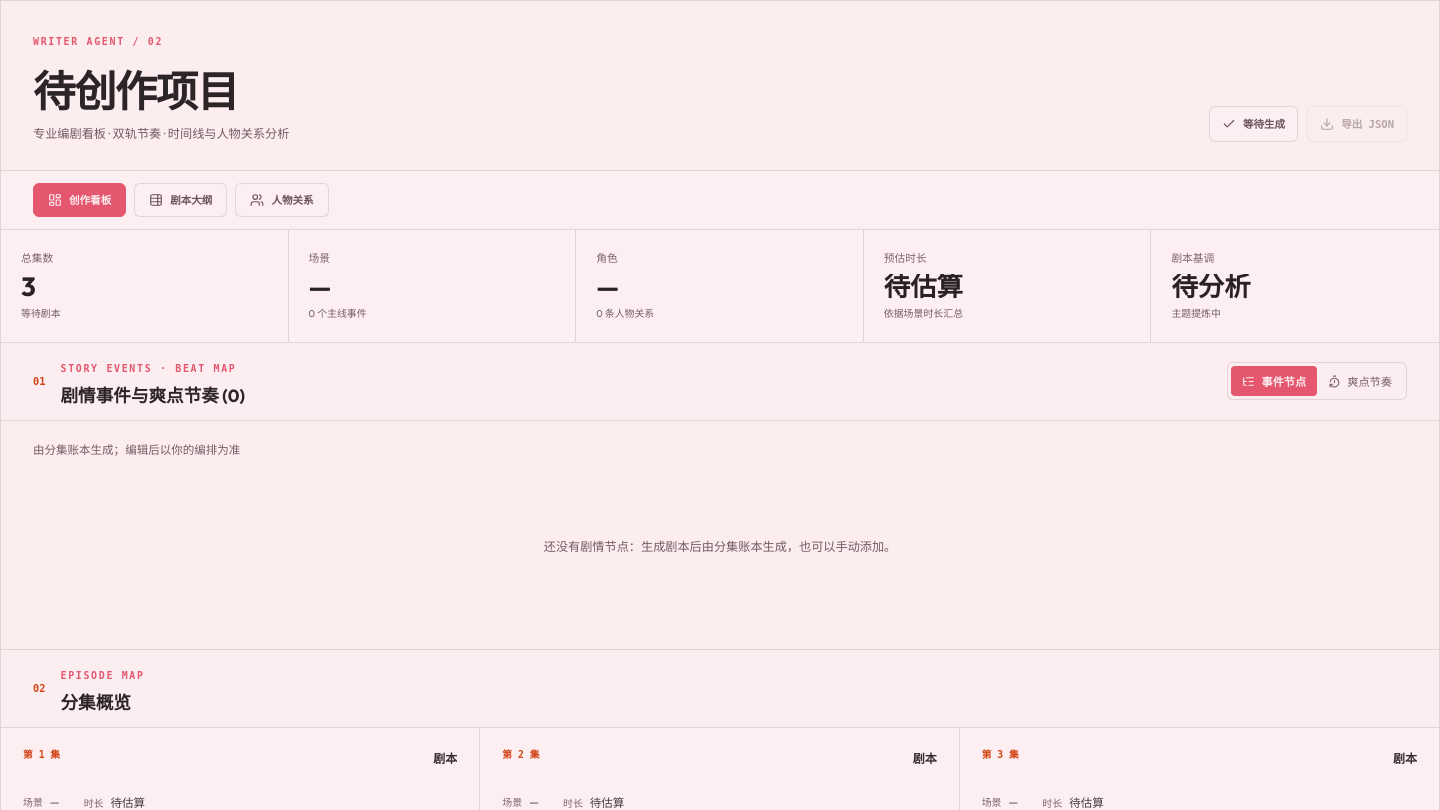
Test case: WriterAgentPage › shows meaningful empty states before the writer asset is generated
The image size is (1440, 810).
Expected: the text "等待生成" is shown, [1209,106,1298,142]
Expected: the text "还没有剧情节点：生成剧本后由分集账本生成，也可以手动添加。" is shown, [544,539,896,554]
Step 1. Click the button "爽点节奏" → (1360, 381), box [1317,366,1403,396]
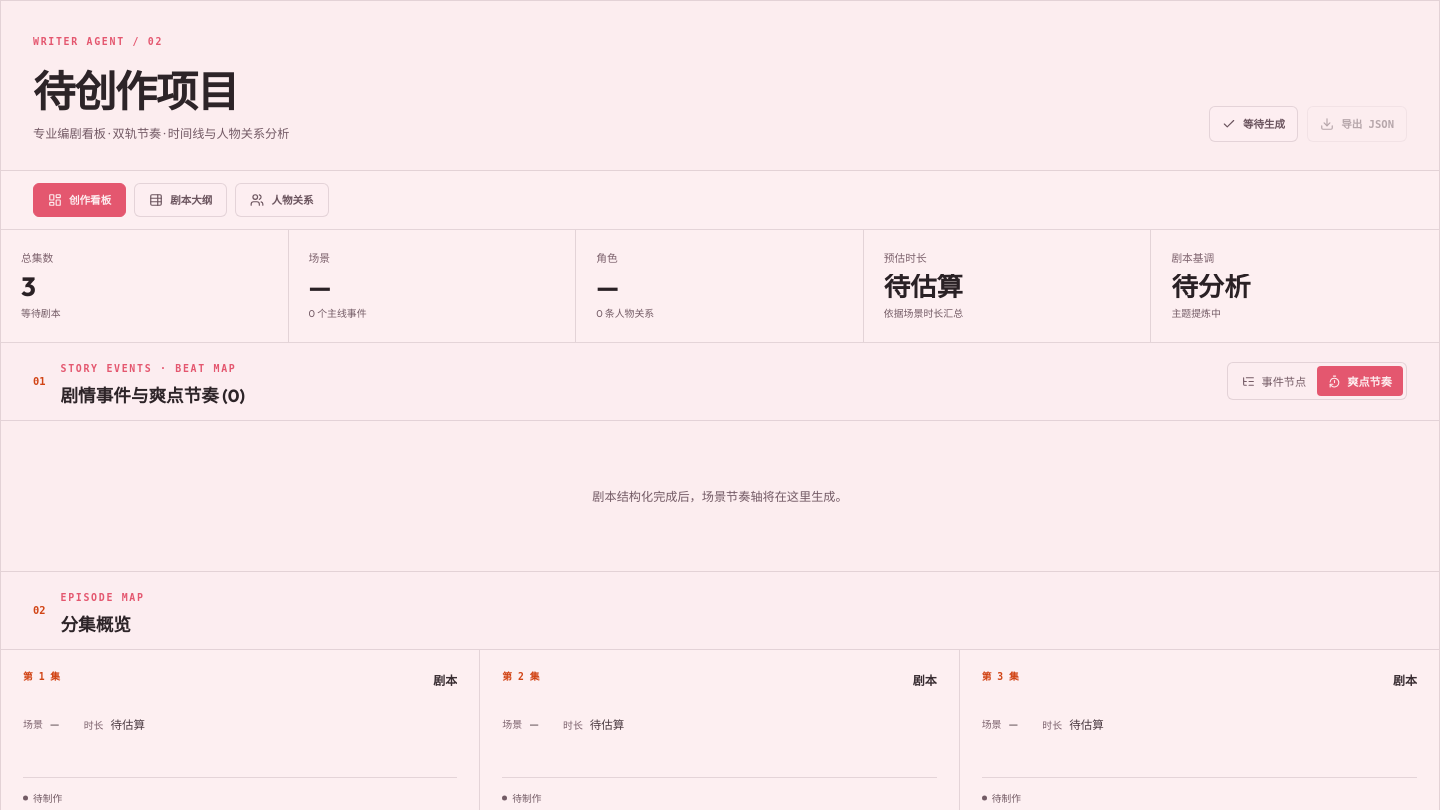
Expected: the text "剧本结构化完成后，场景节奏轴将在这里生成。" is shown, [592,489,848,504]
Step 2. Click the button "人物关系" → (282, 200), box [235,183,329,217]
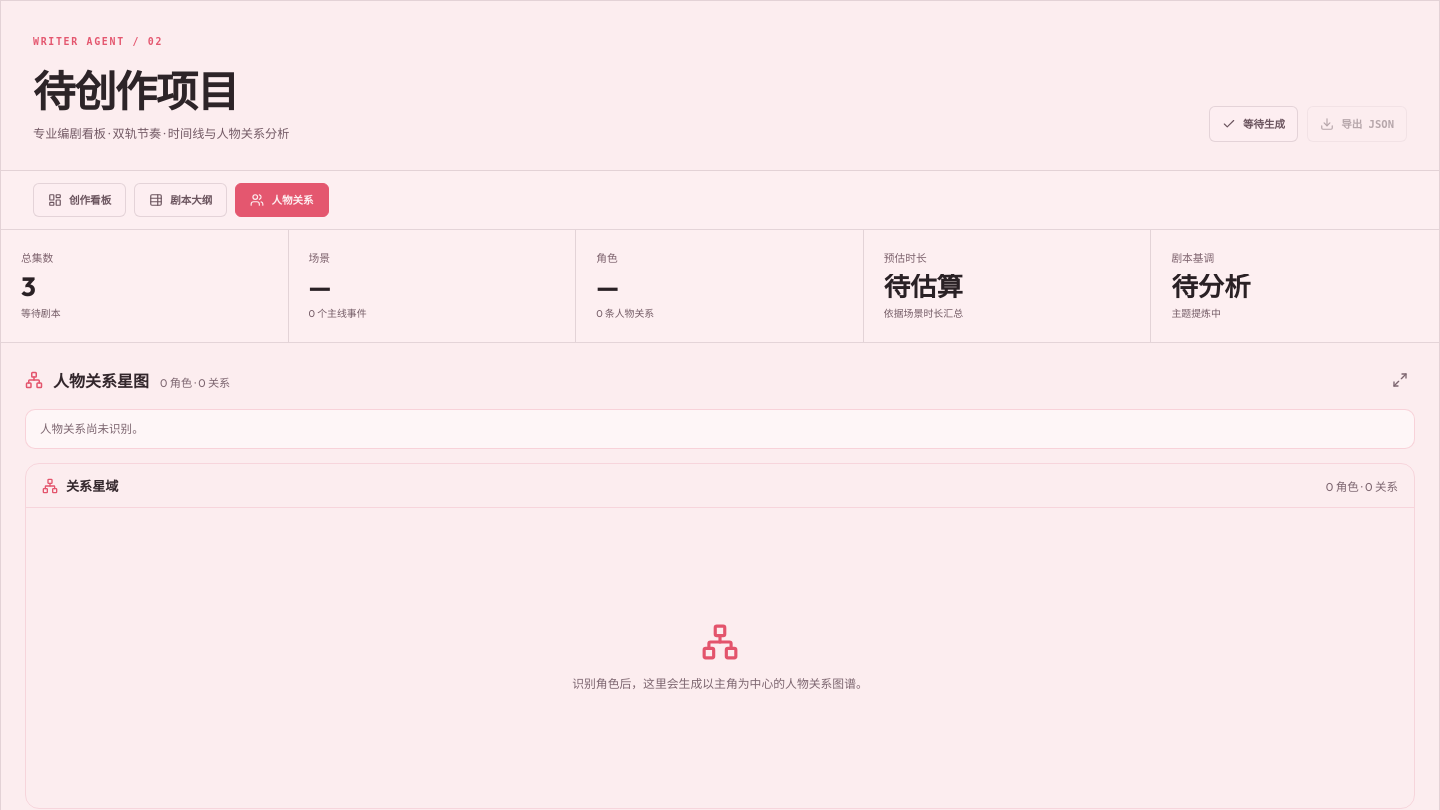
Expected: the text "识别角色后，这里会生成以主角为中心的人物关系图谱。" is shown, [572,674,868,693]
